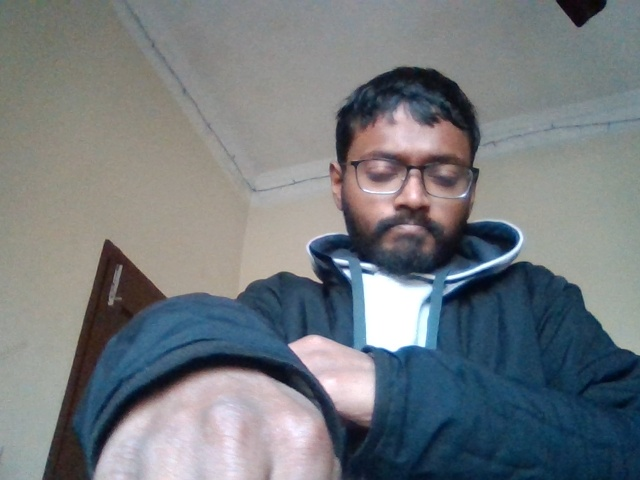evening: (66, 270, 417, 480)
